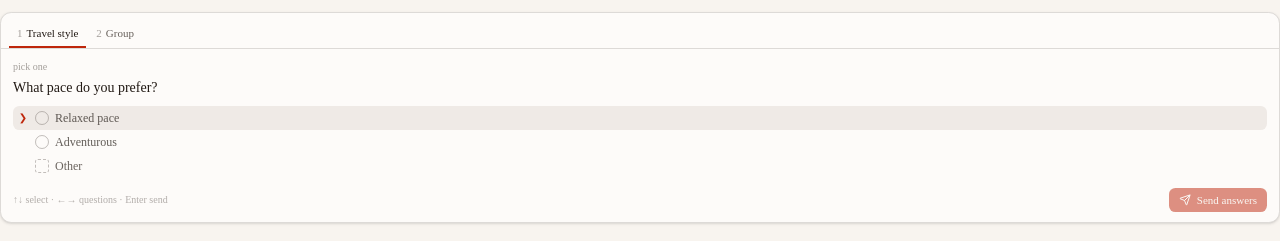
Test case: ClarifyCard (U7) › renders one question per tab with switchable chips
Expected: the text "What pace do you prefer?" is shown, [13,80,158,94]
Expected: the text "Relaxed pace" is shown, [55,110,119,124]
Click the tab "2 Group".
click(115, 34)  # box [88,21,142,48]
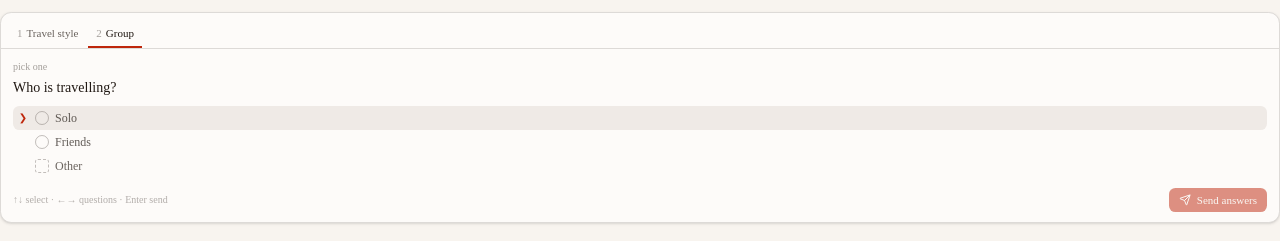
Expected: the text "Who is travelling?" is shown, [13,80,116,94]
